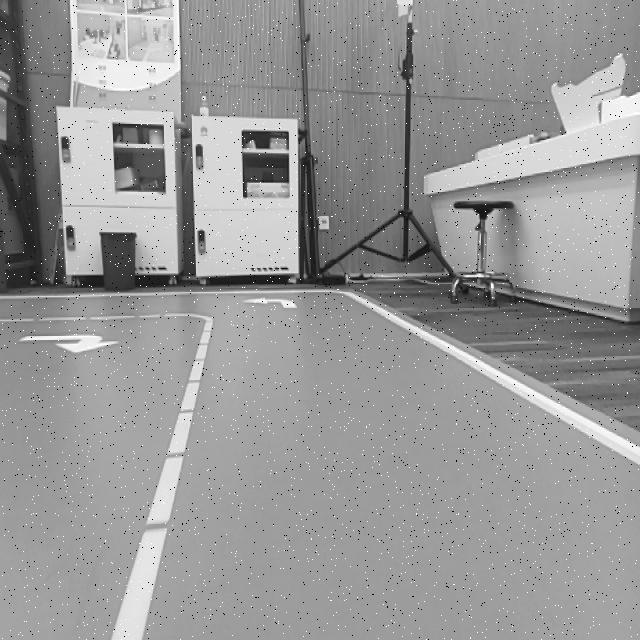left_lane: (113, 320, 213, 639)
right_lane: (342, 291, 638, 463)
